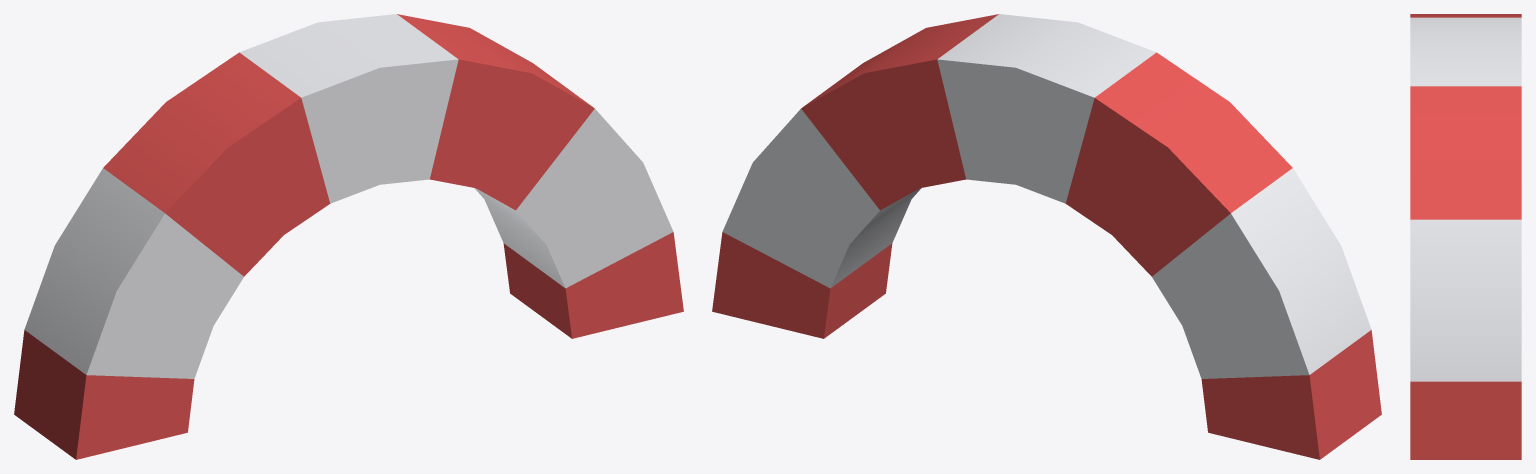
File: overheadRoundColored.glb
3 views of the same model, side by side, from view 1: azimuth 30°, elevation 25°; view 2: azimuth 150°, elevation 25°; view 3: azimuth 270°, elevation 25° (orthographic). The views are drawn at different scales.
Parts seen in each view (by area): view 1: overheadRoundColored(Clone); view 2: overheadRoundColored(Clone); view 3: overheadRoundColored(Clone).
Boxes of the visible parts, box(x1,y1,x2,y2) form: overheadRoundColored(Clone): box(14, 14, 683, 459); overheadRoundColored(Clone): box(712, 14, 1381, 459); overheadRoundColored(Clone): box(1410, 14, 1521, 459).
Bounding box in the file's own units: 1.87 × 0.9334 × 0.33.
